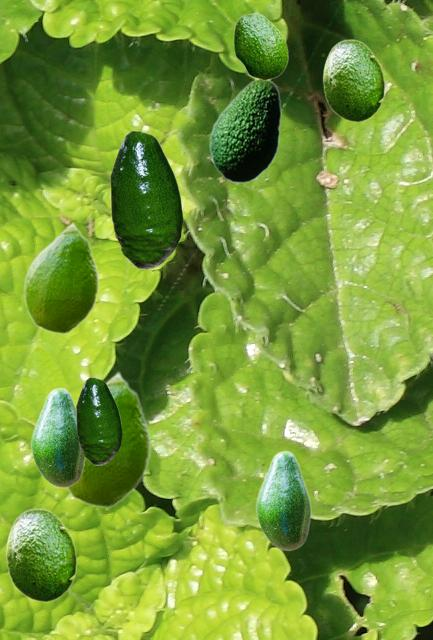avocado: (64, 370, 150, 507), (110, 130, 182, 268), (23, 221, 98, 333), (209, 79, 280, 182), (5, 508, 76, 601), (255, 450, 310, 550), (30, 387, 85, 487), (322, 39, 384, 121), (76, 377, 121, 464), (233, 12, 287, 79)
